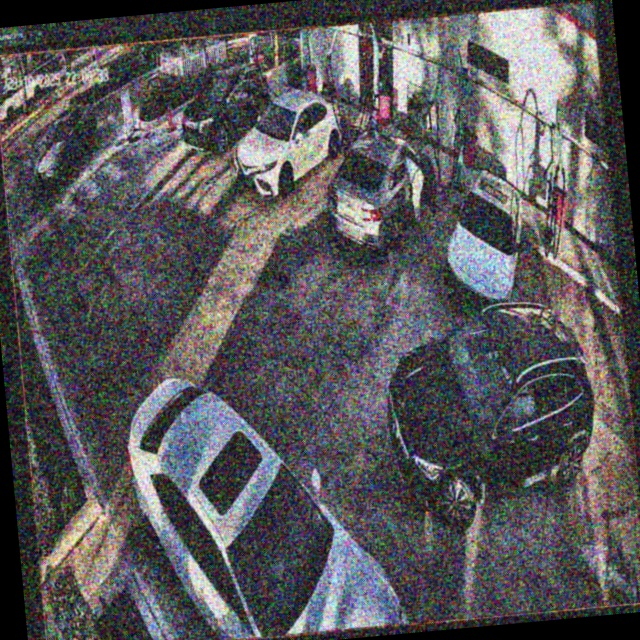Car: (123, 354, 410, 640), (384, 297, 606, 540), (321, 128, 441, 251), (229, 84, 350, 203), (437, 168, 529, 313), (179, 64, 274, 152)
